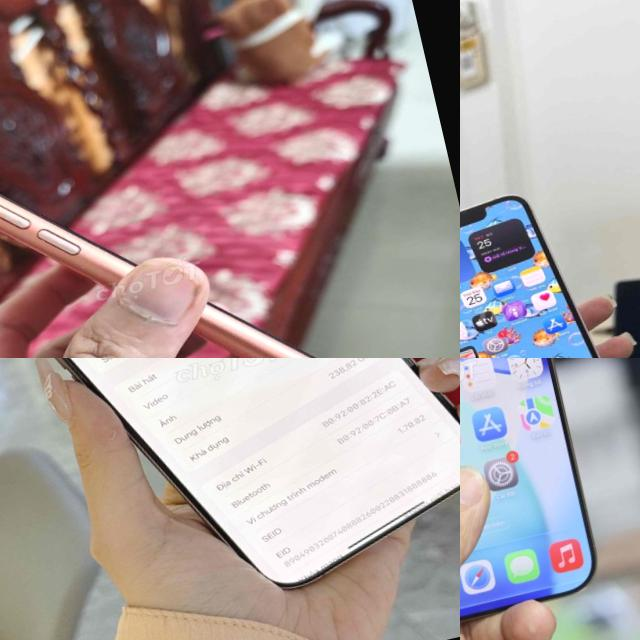gen_12_13: (460, 173, 621, 358)
gen_16: (60, 358, 460, 587), (460, 358, 617, 640)
gen_x_xs: (0, 195, 160, 297), (195, 303, 315, 358)
scratch: (65, 253, 105, 279), (248, 350, 274, 358)
